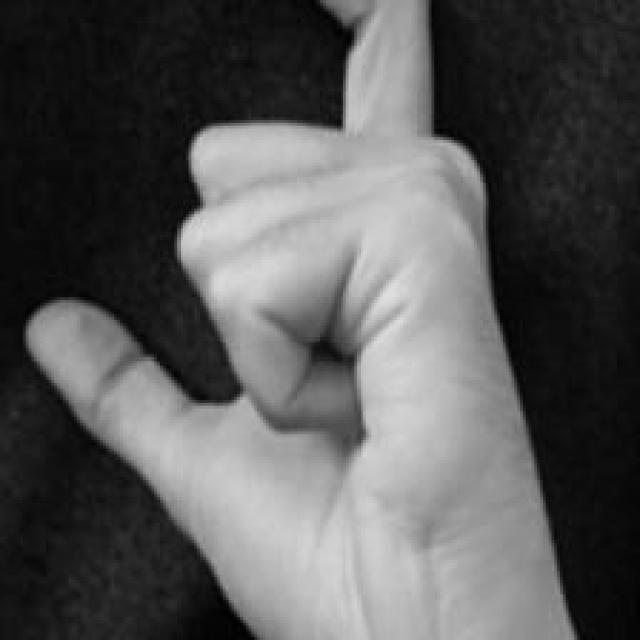C: (26, 0, 494, 640)
